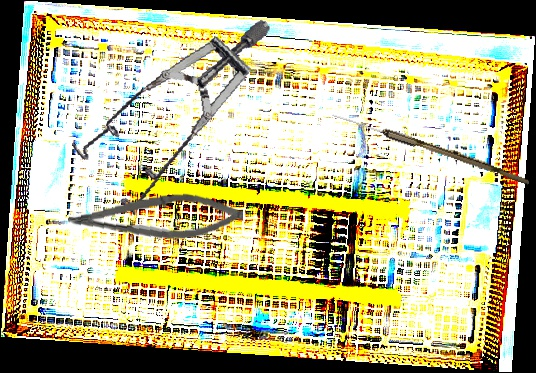Micro Scissor: (66, 188, 245, 249)
Speculum: (55, 16, 301, 227)
Surgical Spoon: (330, 111, 532, 185)
